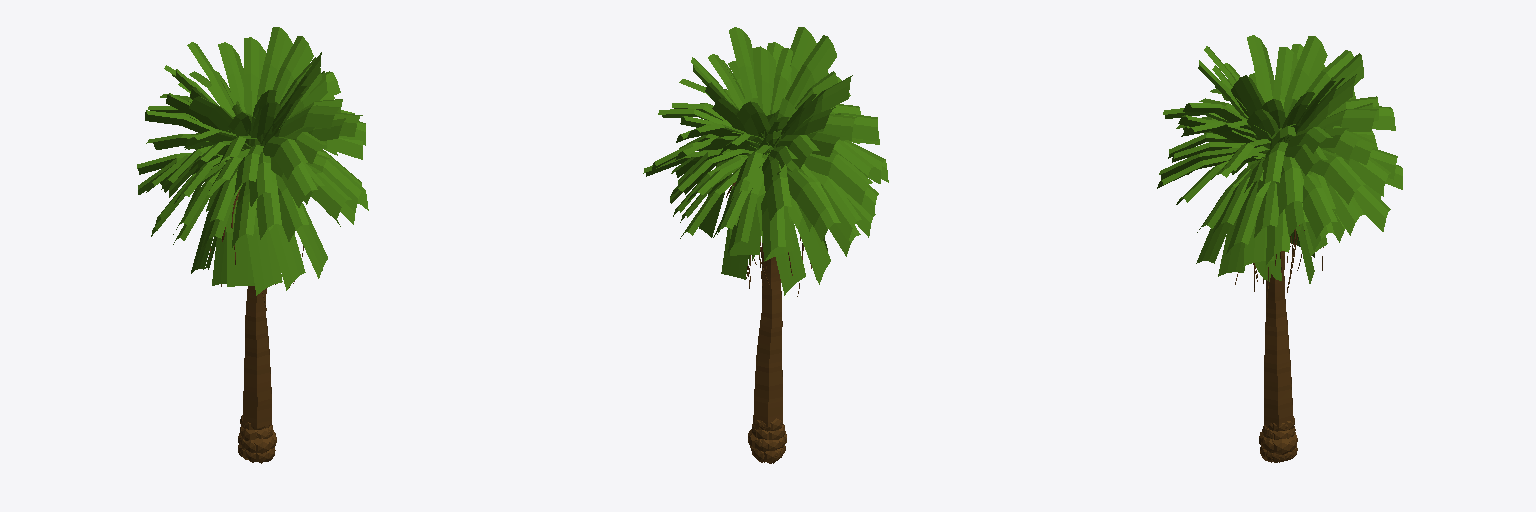
3 renders of one model, left to right at view 1: azimuth 30°, elevation 25°; view 2: azimuth 150°, elevation 25°; view 3: azimuth 270°, elevation 25°, orthographic.
Visible parts, largest first — view 1: hojas_palmera_, Date_Palm; view 2: hojas_palmera_, Date_Palm; view 3: hojas_palmera_, Date_Palm.
Boxes of the visible parts, box(x1,y1,x2,y2) form: hojas_palmera_: box(137, 27, 368, 295); Date_Palm: box(209, 190, 303, 463); hojas_palmera_: box(643, 27, 888, 295); Date_Palm: box(726, 182, 811, 463); hojas_palmera_: box(1157, 35, 1402, 283); Date_Palm: box(1235, 225, 1323, 462).
Size of the model in its own units: 12.85 by 24.38 by 13.31.
2 materials, 2 textured.